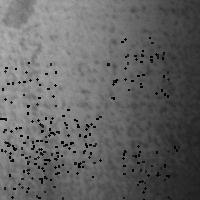pitted_surface: (3, 4, 197, 197), (107, 37, 167, 97), (40, 109, 99, 167), (4, 141, 63, 197), (40, 117, 95, 177), (122, 145, 180, 200), (0, 62, 55, 118), (0, 118, 42, 178)
